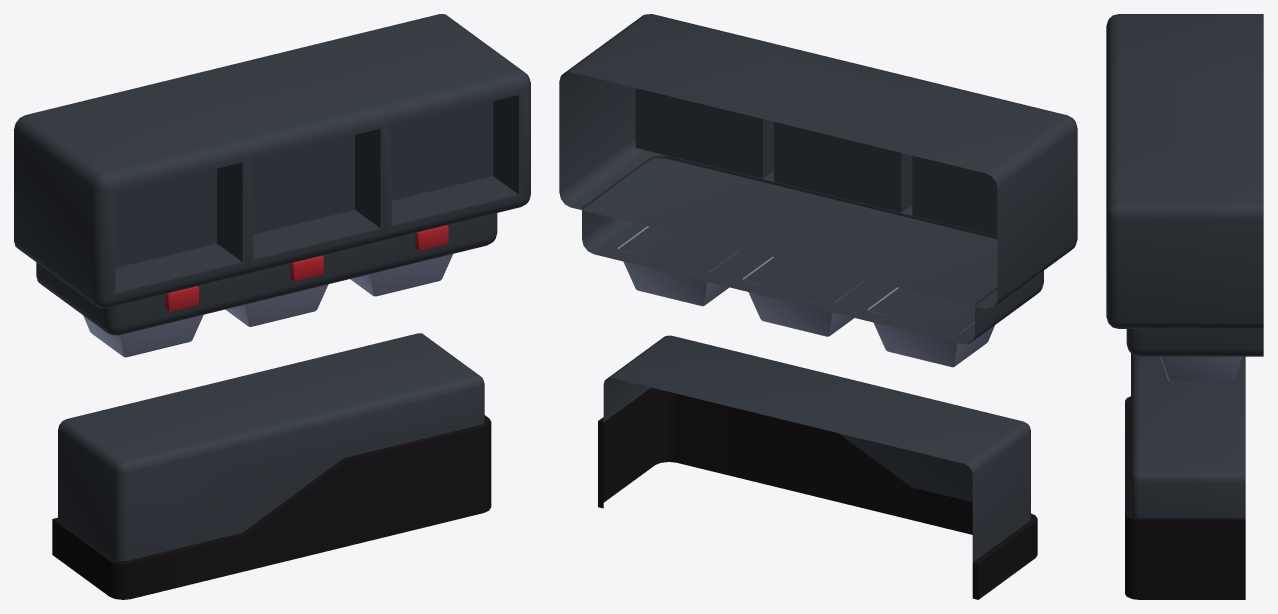
Rendered from MM_Plant_Fabricator.fbx.
The picture shows the model from 3 angles, left to right: view 1: azimuth 30°, elevation 25°; view 2: azimuth 150°, elevation 25°; view 3: azimuth 270°, elevation 25°; orthographic projection. The views are drawn at different scales.
Visible parts, largest first — view 1: Plant_Fabricator; view 2: Plant_Fabricator; view 3: Plant_Fabricator.
Boxes of the visible parts, x1,y1,x2,y2 form: Plant_Fabricator: (14,14,530,599); Plant_Fabricator: (559,14,1077,599); Plant_Fabricator: (1106,14,1263,599).
Size of the model in its own units: 263 by 252 by 88.45.
